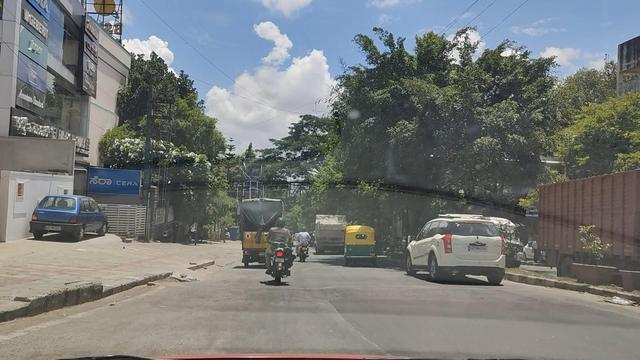HMV: (527, 170, 640, 293), (231, 194, 289, 271), (303, 200, 354, 266)
